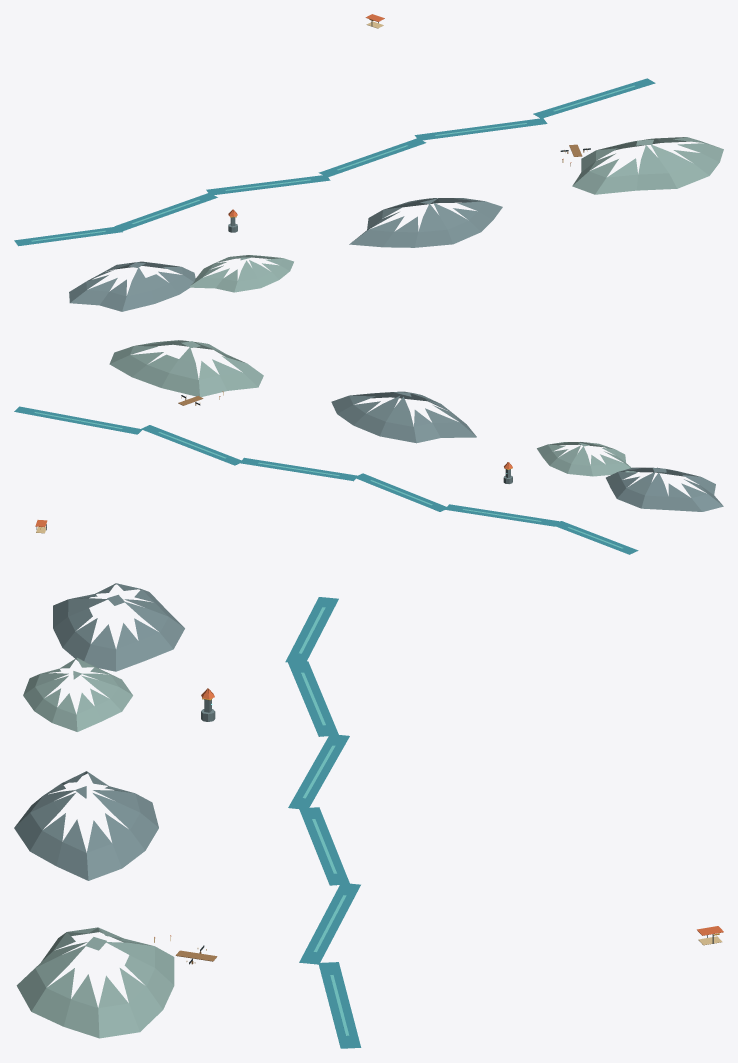
Rendered from OPEN-FIELD-SCENERY-01_LOD1.glb.
3 views of the same model, one above another, from view 1: azimuth 30°, elevation 25°; view 2: azimuth 150°, elevation 25°; view 3: azimuth 270°, elevation 25° (orthographic). The views are drawn at different scales.
Parts seen in each view (by area): view 1: HILL01_mass_3, HILL01_mass_2, HILL01_mass_0, HILL01_mass_1, RIVER01_water_05, RIVER01_water_04, RIVER01_water_02, RIVER01_water_03, RIVER01_water_01, RIVER01_water_00; view 2: HILL01_mass_3, HILL01_mass_2, HILL01_mass_0, HILL01_mass_1, RIVER01_water_05, RIVER01_water_04, RIVER01_water_03, RIVER01_water_01, RIVER01_water_02, RIVER01_water_00; view 3: HILL01_mass_3, HILL01_mass_2, HILL01_mass_0, HILL01_mass_1, RIVER01_water_05, RIVER01_water_04, RIVER01_water_03, RIVER01_water_01, RIVER01_water_02, RIVER01_water_00.
Part boxes in pixels (left/top/right/bottom): HILL01_mass_3: left=572, top=137, right=723, bottom=194; HILL01_mass_2: left=349, top=198, right=502, bottom=247; HILL01_mass_0: left=69, top=261, right=195, bottom=311; HILL01_mass_1: left=190, top=255, right=293, bottom=292; RIVER01_water_05: left=533, top=78, right=655, bottom=118; RIVER01_water_04: left=414, top=118, right=547, bottom=140; RIVER01_water_02: left=206, top=174, right=330, bottom=194; RIVER01_water_03: left=318, top=138, right=426, bottom=177; RIVER01_water_01: left=114, top=193, right=217, bottom=230; RIVER01_water_00: left=14, top=226, right=122, bottom=246; HILL01_mass_3: left=109, top=340, right=263, bottom=397; HILL01_mass_2: left=331, top=391, right=476, bottom=443; HILL01_mass_0: left=606, top=467, right=723, bottom=511; HILL01_mass_1: left=537, top=442, right=636, bottom=476; RIVER01_water_05: left=14, top=406, right=142, bottom=434; RIVER01_water_04: left=141, top=425, right=241, bottom=465; RIVER01_water_03: left=239, top=457, right=356, bottom=481; RIVER01_water_01: left=445, top=504, right=559, bottom=526; RIVER01_water_02: left=354, top=473, right=446, bottom=511; RIVER01_water_00: left=553, top=521, right=638, bottom=554; HILL01_mass_3: left=16, top=927, right=174, bottom=1038; HILL01_mass_2: left=14, top=771, right=158, bottom=880; HILL01_mass_0: left=53, top=583, right=184, bottom=671; HILL01_mass_1: left=23, top=657, right=132, bottom=731; RIVER01_water_05: left=318, top=962, right=361, bottom=1048; RIVER01_water_04: left=299, top=883, right=360, bottom=964; RIVER01_water_03: left=299, top=807, right=349, bottom=885; RIVER01_water_01: left=288, top=661, right=338, bottom=736; RIVER01_water_02: left=288, top=734, right=349, bottom=808; RIVER01_water_00: left=285, top=597, right=338, bottom=663.
Bounding box in the file's own units: 797 × 32.29 × 514.
